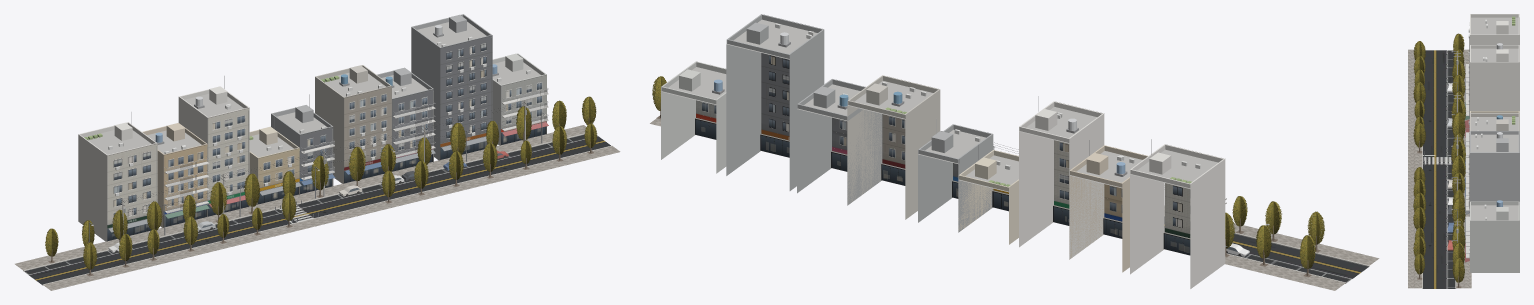
Rendered from outside.glb.
3 views of the same model, side by side, from view 1: azimuth 30°, elevation 25°; view 2: azimuth 150°, elevation 25°; view 3: azimuth 270°, elevation 25° (orthographic). The views are drawn at different scales.
Visible parts, largest first — view 1: OUT_Street, OUT_Trees, OUT_Wires; view 2: OUT_Street, OUT_Trees; view 3: OUT_Street, OUT_Trees.
Boxes of the visible parts, <box> form: OUT_Street: <box>15,14,620,290</box>; OUT_Trees: <box>45,96,597,269</box>; OUT_Wires: <box>124,103,523,212</box>; OUT_Street: <box>650,14,1379,290</box>; OUT_Trees: <box>652,76,1324,268</box>; OUT_Street: <box>1408,14,1519,288</box>; OUT_Trees: <box>1413,33,1465,282</box>.
Bounding box in the file's own units: 137 × 27.4 × 26.91.
Materials: 7 (4 with a texture image).
